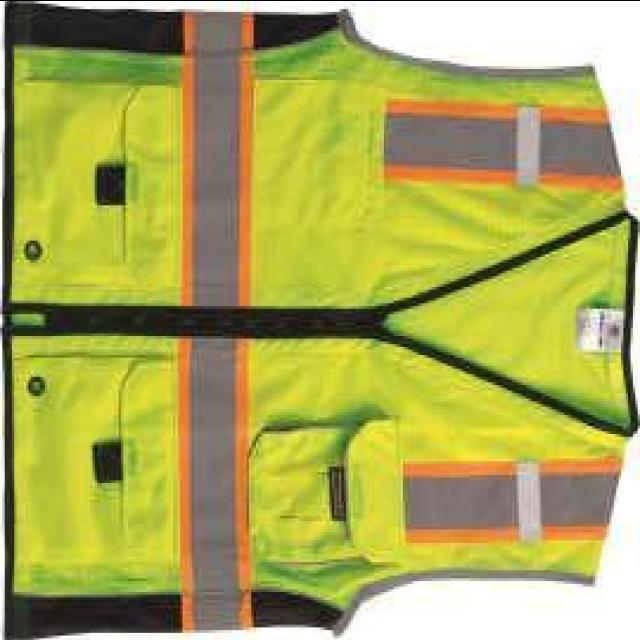jacket: (1, 18, 636, 640)
